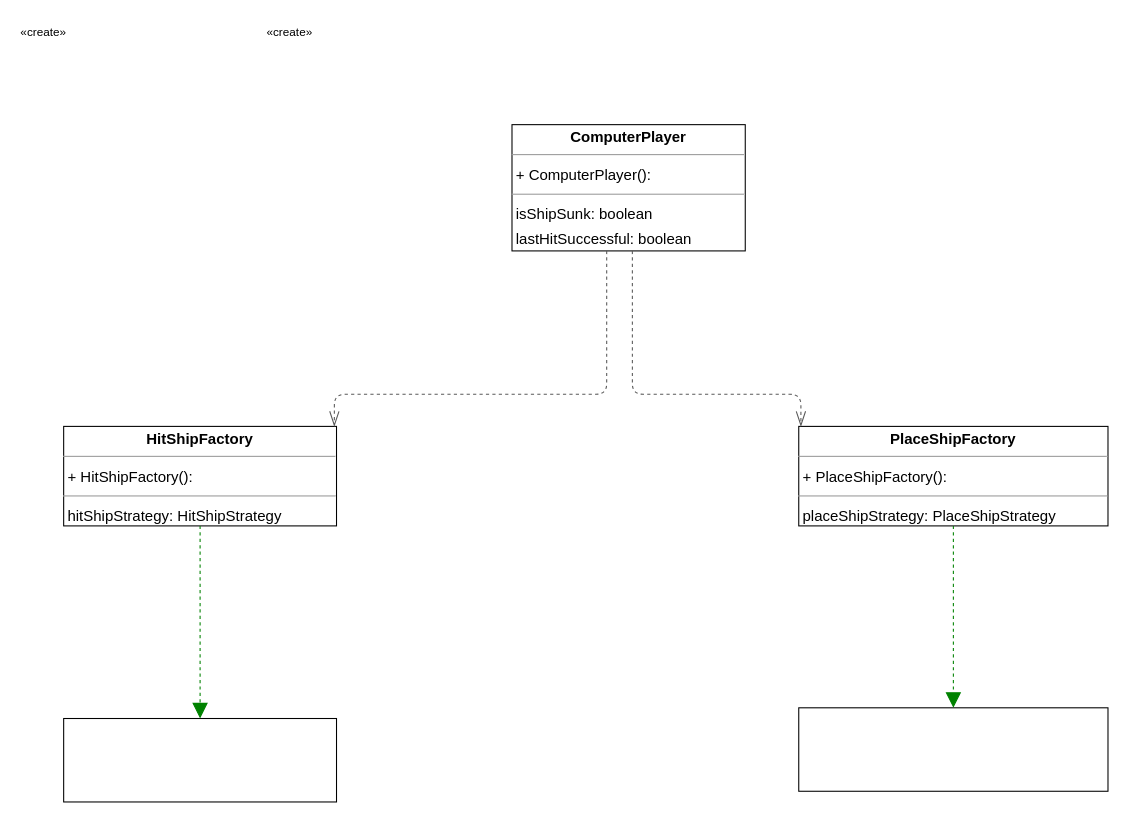
Image size: 1127x821. Some labels were removed from this diagram. The box of each missing label's shape, as (x1, y1, x2, y2) in pixels:
<<interface>> IHitShipFactory hitShipStrategy: HitShipStrategy: (63, 717, 337, 802)
<<interface>> IPlaceShipFactory placeShipStrategy: PlaceShipStrategy: (798, 707, 1108, 791)
